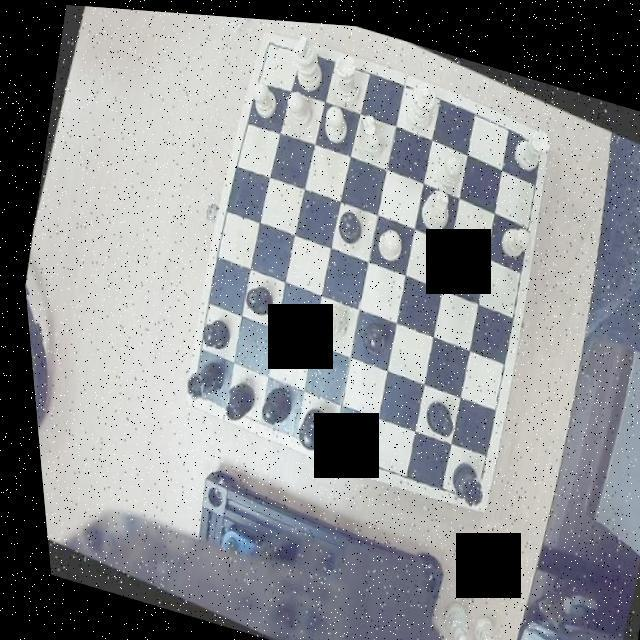chess-table-corners: (439, 462, 484, 507), (174, 369, 216, 410), (513, 120, 551, 158), (255, 26, 289, 61)
